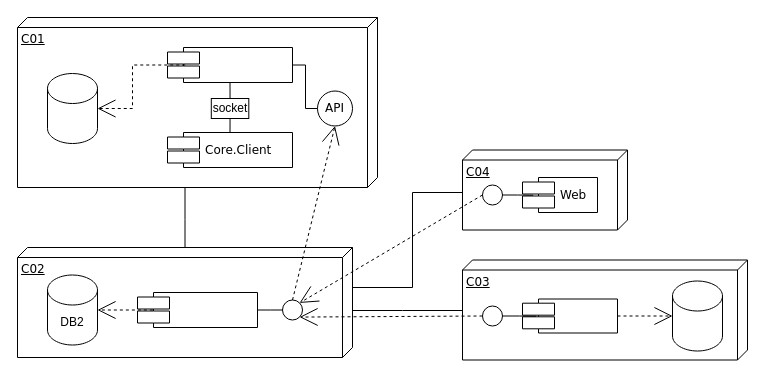
This 765x378 diagram has some shape labels left out. Each missing label, with the centre of its shape:
Core.Server: (229,64)
DB1: (72,108)
DB3: (697,315)
Integration: (197,310)
Vending: (570,315)
